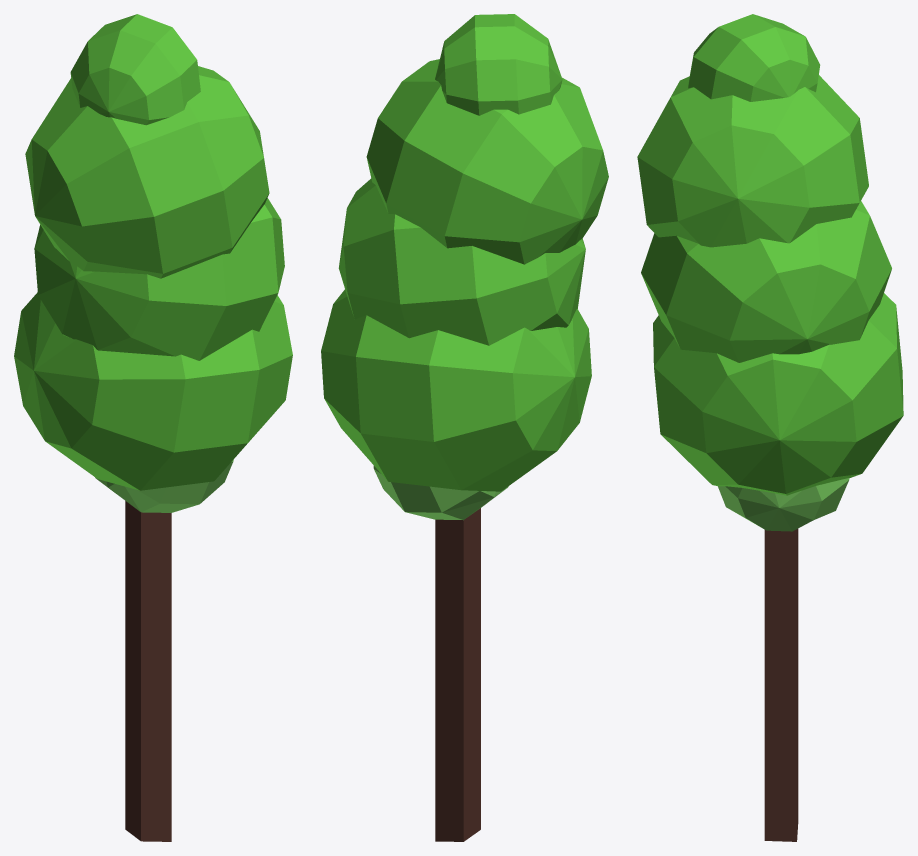
File: tree_1_2_world_ap_0_lev1.glb
3 renders of one model, left to right at view 1: azimuth 30°, elevation 25°; view 2: azimuth 150°, elevation 25°; view 3: azimuth 270°, elevation 25°, orthographic. The views are drawn at different scales.
Parts seen in each view (by area): view 1: tree_1_2_world_ap_0_lev1; view 2: tree_1_2_world_ap_0_lev1; view 3: tree_1_2_world_ap_0_lev1.
Boxes of the visible parts, x1=… form: tree_1_2_world_ap_0_lev1: x1=14, y1=14, x2=292, y2=841; tree_1_2_world_ap_0_lev1: x1=321, y1=14, x2=608, y2=841; tree_1_2_world_ap_0_lev1: x1=637, y1=14, x2=903, y2=841.
Bounding box in the file's own units: 0.56 × 1.82 × 0.5491.
Materials: 1 (1 with a texture image).
